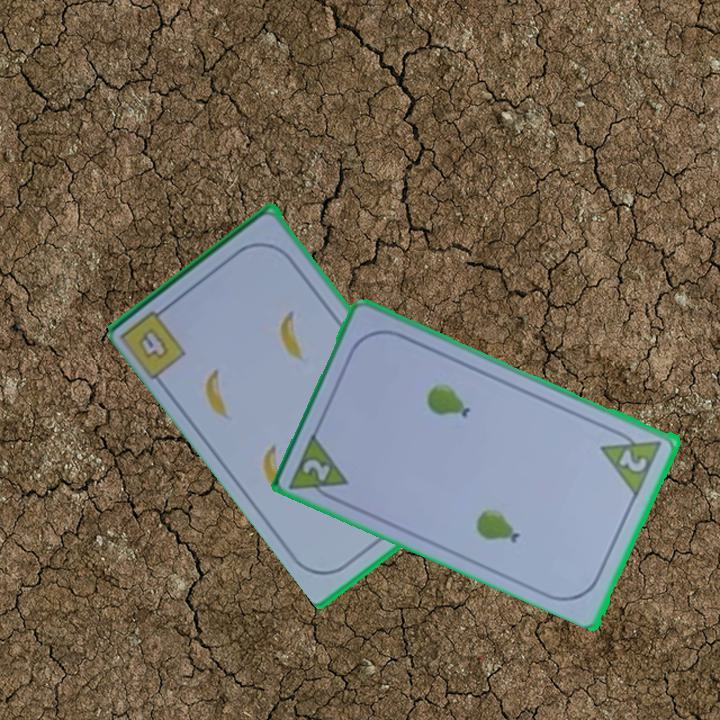2p: (286, 427, 353, 506), (615, 444, 651, 475)
4b: (118, 299, 190, 382)
